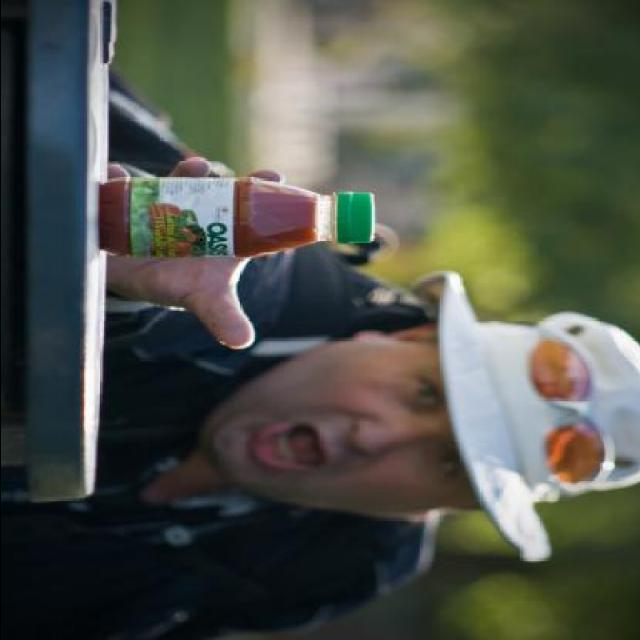Juice: (88, 172, 352, 258)
